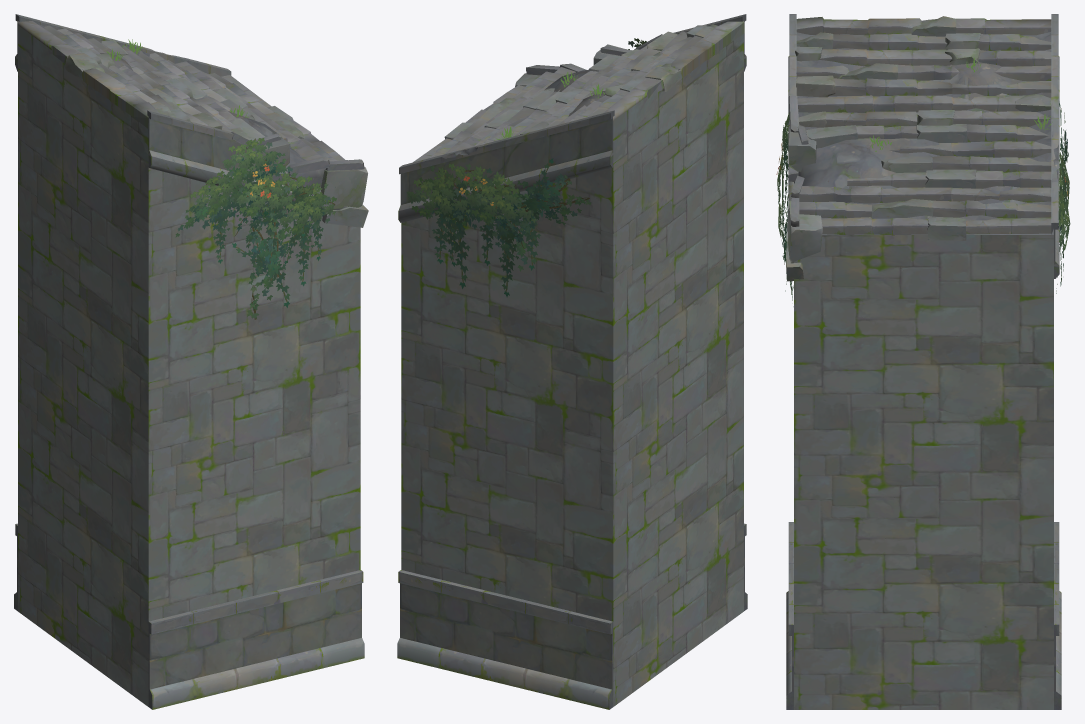
The model's file is Area_MdBuild_SdWall01_11_Group.fbx.
The picture shows the model from 3 angles, left to right: view 1: azimuth 30°, elevation 25°; view 2: azimuth 150°, elevation 25°; view 3: azimuth 270°, elevation 25°; orthographic projection.
Parts seen in each view (by area): view 1: Area_MdBuild_SdWall01_11_Lod0, Stages_LYLvy06_Vo (2), Stages_LYLvy09_Vo (3); view 2: Area_MdBuild_SdWall01_11_Lod0, Stages_LYLvy08_Vo (2), Stages_LYLvy09_Vo (4); view 3: Area_MdBuild_SdWall01_11_Lod0, Stages_LYLvy08_Vo (2), Stages_LYLvy06_Vo (2).
Boxes of the visible parts, bbox=[...] form: Area_MdBuild_SdWall01_11_Lod0: bbox=[14, 14, 368, 709]; Stages_LYLvy06_Vo (2): bbox=[175, 138, 336, 286]; Stages_LYLvy09_Vo (3): bbox=[232, 208, 293, 319]; Area_MdBuild_SdWall01_11_Lod0: bbox=[397, 14, 747, 709]; Stages_LYLvy08_Vo (2): bbox=[406, 163, 543, 297]; Stages_LYLvy09_Vo (4): bbox=[489, 158, 591, 226]; Area_MdBuild_SdWall01_11_Lod0: bbox=[786, 14, 1061, 709]; Stages_LYLvy08_Vo (2): bbox=[1056, 152, 1070, 293]; Stages_LYLvy06_Vo (2): bbox=[776, 112, 789, 291].
Size of the model in its own units: 7.8 by 20.14 by 9.06.
Materials: 8 (8 with a texture image).
